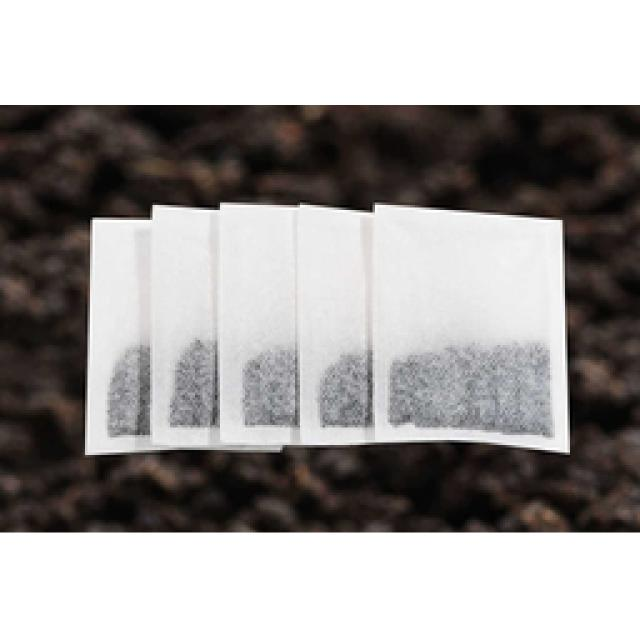tea-bags: (374, 203, 570, 455), (220, 202, 302, 445), (299, 202, 375, 444), (150, 204, 221, 447), (86, 218, 150, 456)
